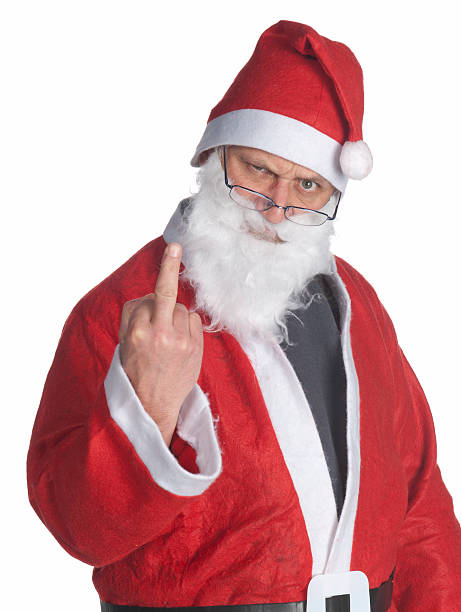insulting_gesture: (121, 239, 202, 400)
